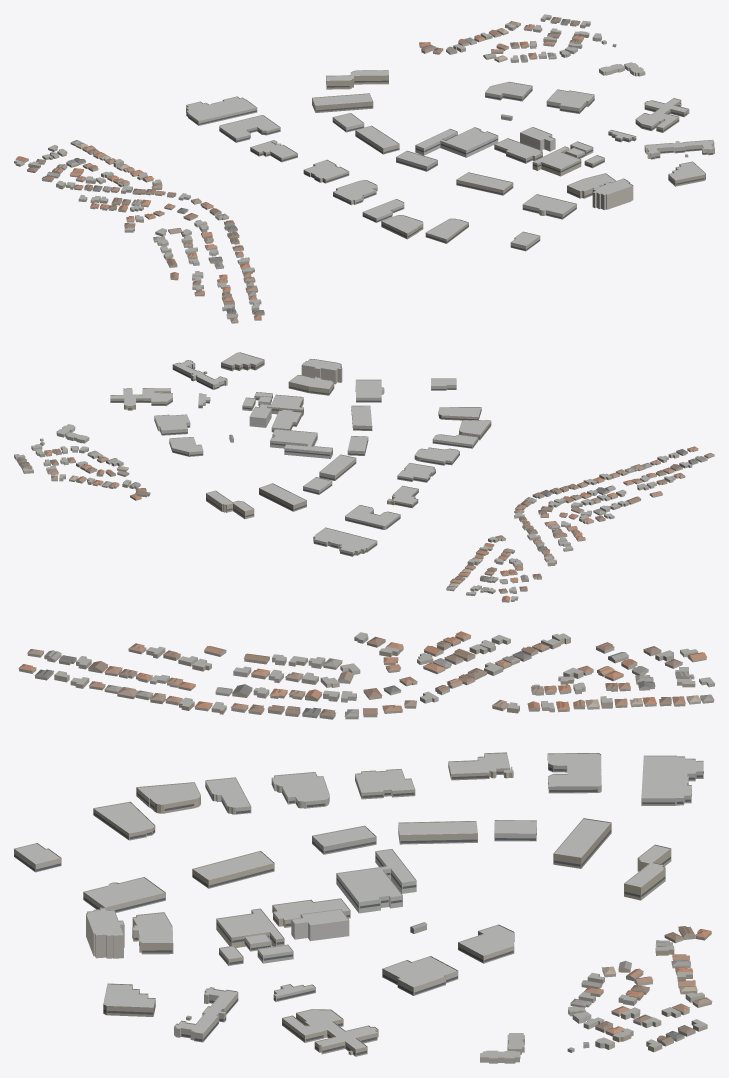
The model's file is buildings_r7_c7.glb.
3 views of the same model, one above another, from view 1: azimuth 30°, elevation 25°; view 2: azimuth 150°, elevation 25°; view 3: azimuth 270°, elevation 25° (orthographic). The views are drawn at different scales.
Visible parts, largest first — view 1: buildings_r7_c7; view 2: buildings_r7_c7; view 3: buildings_r7_c7.
Part boxes in pixels (x1=…): buildings_r7_c7: x1=14, y1=14, x2=714, y2=323; buildings_r7_c7: x1=14, y1=352, x2=714, y2=602; buildings_r7_c7: x1=14, y1=631, x2=714, y2=1063.
Bounding box in the file's own units: 1143 × 46.51 × 805.
